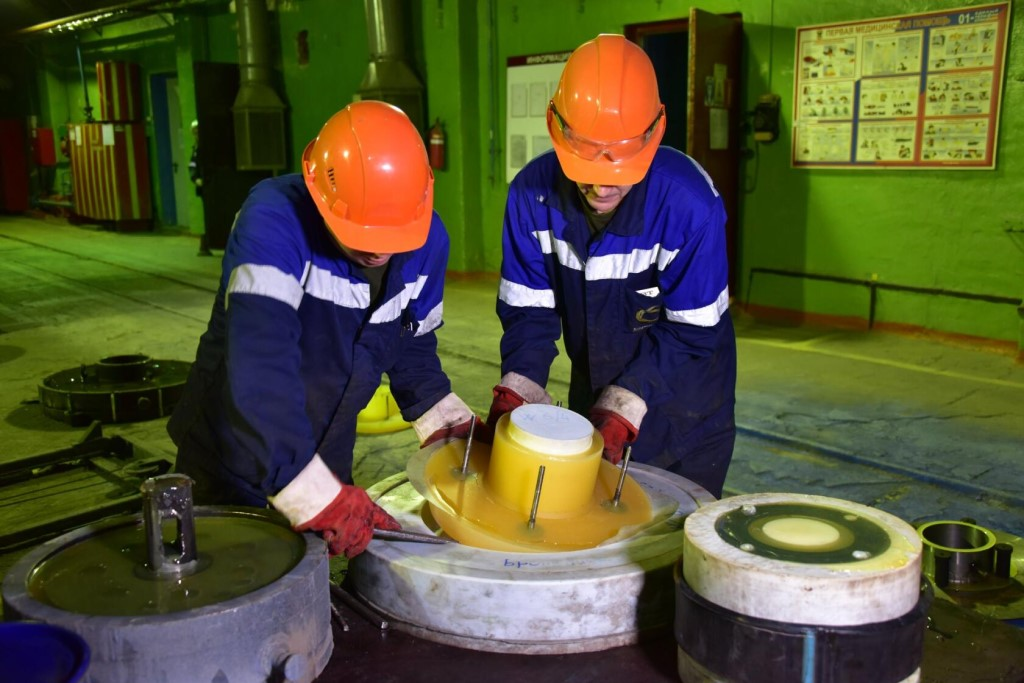person: (166, 101, 482, 562), (484, 35, 735, 507)
